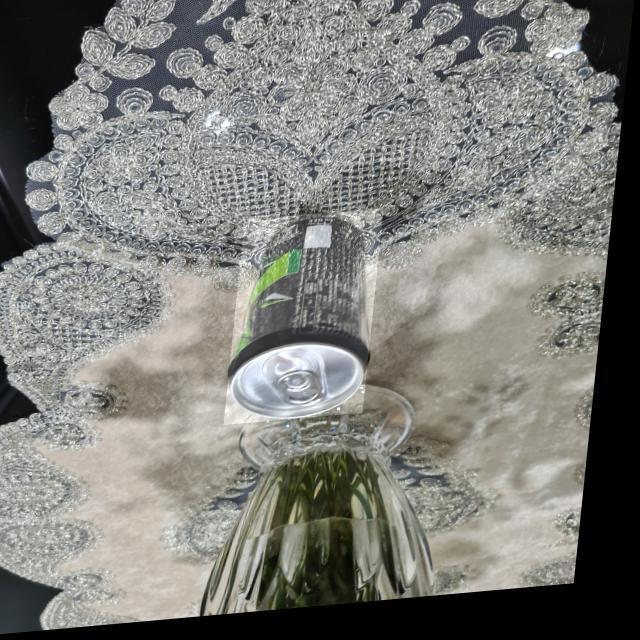trash: (235, 213, 369, 419)
